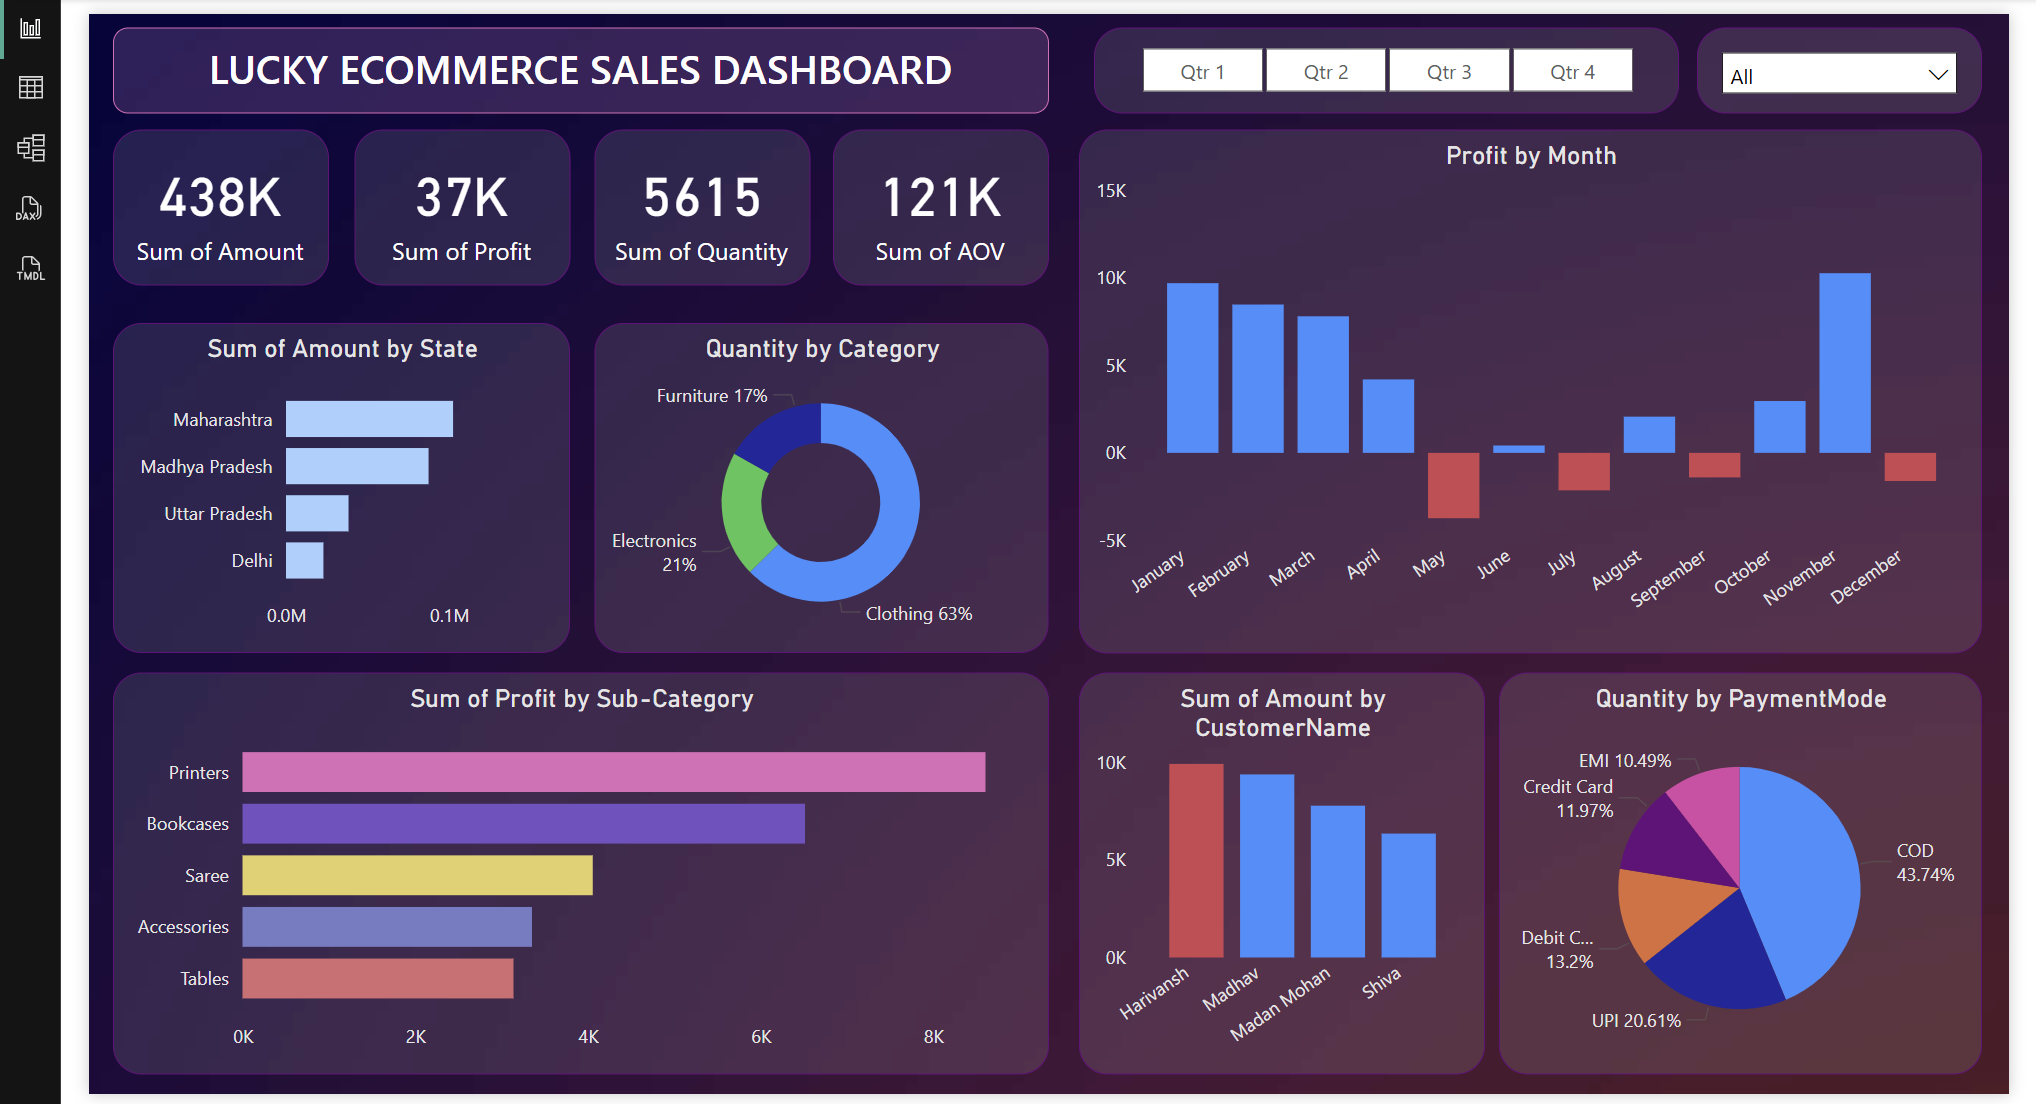

The dashboard page shown, as its layout file describes it:
{"tool":"powerbi","page":{"name":"Page 1","canvas":[1280,720],"ordinal":0},"visuals":[{"type":"textbox","box":[16,9,624,57],"z":0},{"type":"columnChart","title":"Profit by Month","fields":{"Category":["Orders.Order Date.Variation.Date Hierarchy.Month"],"Y":["Details.Profit"]},"box":[660,77,602,349],"z":1},{"type":"barChart","fields":{"Category":["Details.Sub-Category"],"Y":["Details.Profit"]},"box":[16,439,624,268],"z":2},{"type":"donutChart","title":"Quantity by Category","fields":{"Category":["Details.Category"],"Y":["Details.Quantity"]},"box":[337,206,303,220],"z":3},{"type":"pieChart","title":"Quantity by PaymentMode","fields":{"Y":["Details.Quantity"],"Category":["Details.PaymentMode"]},"box":[940,439,322,268],"z":4},{"type":"card","fields":{"Values":["Details.Amount"]},"box":[16,77,144,104],"z":5},{"type":"card","fields":{"Values":["Details.Profit"]},"box":[177,77,144,104],"z":6},{"type":"card","fields":{"Values":["Details.Quantity"]},"box":[337,77,144,104],"z":7},{"type":"card","fields":{"Values":["Details.AOV"]},"box":[496,77,144,104],"z":8},{"type":"barChart","fields":{"Category":["Orders.State"],"Y":["Details.Amount"]},"box":[16,206,305,220],"z":9},{"type":"columnChart","fields":{"Category":["Orders.CustomerName"],"Y":["Details.Amount"]},"box":[660,439,271,268],"z":10},{"type":"slicer","fields":{"Values":["Orders.Order Date.Variation.Date Hierarchy.Quarter"]},"box":[670,9,390,57],"z":11},{"type":"slicer","fields":{"Values":["Orders.State"]},"box":[1072,9,190,57],"z":12}]}

Visuals, with their boxes in screenshot pixels (x1, y1, x2, y2):
textbox: {"x1": 52, "y1": 0, "x2": 1029, "y2": 87}
"Profit by Month" columnChart: {"x1": 1060, "y1": 105, "x2": 2003, "y2": 651}
barChart - Details.Sub-Category x Details.Profit: {"x1": 52, "y1": 672, "x2": 1029, "y2": 1091}
"Quantity by Category" donutChart: {"x1": 554, "y1": 307, "x2": 1029, "y2": 651}
"Quantity by PaymentMode" pieChart: {"x1": 1499, "y1": 672, "x2": 2003, "y2": 1091}
card - Details.Amount: {"x1": 52, "y1": 105, "x2": 277, "y2": 268}
card - Details.Profit: {"x1": 304, "y1": 105, "x2": 529, "y2": 268}
card - Details.Quantity: {"x1": 554, "y1": 105, "x2": 780, "y2": 268}
card - Details.AOV: {"x1": 803, "y1": 105, "x2": 1029, "y2": 268}
barChart - Orders.State x Details.Amount: {"x1": 52, "y1": 307, "x2": 529, "y2": 651}
columnChart - Orders.CustomerName x Details.Amount: {"x1": 1060, "y1": 672, "x2": 1485, "y2": 1091}
slicer - Orders.Order Date.Variation.Date Hierarchy.Quarter: {"x1": 1076, "y1": 0, "x2": 1687, "y2": 87}
slicer - Orders.State: {"x1": 1705, "y1": 0, "x2": 2003, "y2": 87}
